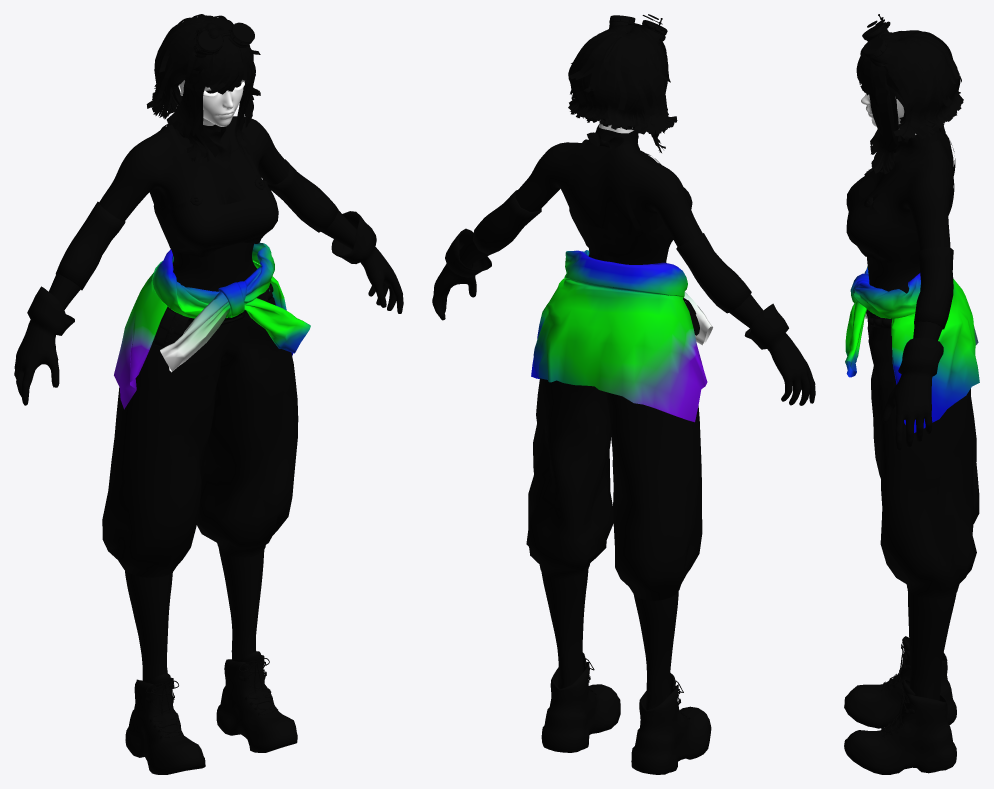
File: SK_MechanicGirl_01.obj
The picture shows the model from 3 angles, left to right: view 1: azimuth 30°, elevation 25°; view 2: azimuth 150°, elevation 25°; view 3: azimuth 270°, elevation 25°; orthographic projection. The views are drawn at different scales.
Visible parts, largest first — view 1: SK_MECHANICGIRL_PANTS, SK_MECHANICGIRL_BODY_CUT, SK_MECHANICGIRL_SHIRT, SK_MECHANICGIRL_SHOES, SK_MECHANICGIRL_HAIR_SHORT, SK_MECHANICGIRL_GLOVES, SK_MECHANICGIRL_TOP, SK_MECHANICGIRL_ELBOWS, SK_MECHANICGIRL_GLASSES_UP, SK_MECHANICGIRL_HEAD, SK_MECHANICGIRL_BELT, SK_MECHANICGIRL_SCARF; view 2: SK_MECHANICGIRL_PANTS, SK_MECHANICGIRL_SHIRT, SK_MECHANICGIRL_BODY_CUT, SK_MECHANICGIRL_SHOES, SK_MECHANICGIRL_HAIR_SHORT, SK_MECHANICGIRL_GLOVES, SK_MECHANICGIRL_ELBOWS, SK_MECHANICGIRL_TOP, SK_MECHANICGIRL_GLASSES_UP; view 3: SK_MECHANICGIRL_PANTS, SK_MECHANICGIRL_BODY_CUT, SK_MECHANICGIRL_SHOES, SK_MECHANICGIRL_HAIR_SHORT, SK_MECHANICGIRL_SHIRT, SK_MECHANICGIRL_GLOVES, SK_MECHANICGIRL_TOP, SK_MECHANICGIRL_ELBOWS, SK_MECHANICGIRL_GLASSES_UP, SK_MECHANICGIRL_SCARF, SK_MECHANICGIRL_HEAD, SK_MECHANICGIRL_BELT.
Part boxes in pixels (<box>): SK_MECHANICGIRL_PANTS: <box>102,266,298,577</box>; SK_MECHANICGIRL_BODY_CUT: <box>48,116,356,683</box>; SK_MECHANICGIRL_SHIRT: <box>114,242,310,409</box>; SK_MECHANICGIRL_SHOES: <box>125,651,297,774</box>; SK_MECHANICGIRL_HAIR_SHORT: <box>146,14,260,164</box>; SK_MECHANICGIRL_GLOVES: <box>14,211,403,405</box>; SK_MECHANICGIRL_TOP: <box>153,122,278,257</box>; SK_MECHANICGIRL_ELBOWS: <box>55,159,338,290</box>; SK_MECHANICGIRL_GLASSES_UP: <box>191,22,254,57</box>; SK_MECHANICGIRL_HEAD: <box>178,80,243,126</box>; SK_MECHANICGIRL_BELT: <box>154,283,273,347</box>; SK_MECHANICGIRL_SCARF: <box>203,126,231,169</box>; SK_MECHANICGIRL_PANTS: <box>526,295,702,600</box>; SK_MECHANICGIRL_SHIRT: <box>531,250,712,422</box>; SK_MECHANICGIRL_BODY_CUT: <box>459,127,763,710</box>; SK_MECHANICGIRL_SHOES: <box>541,652,711,774</box>; SK_MECHANICGIRL_HAIR_SHORT: <box>568,24,677,152</box>; SK_MECHANICGIRL_GLOVES: <box>432,228,815,405</box>; SK_MECHANICGIRL_ELBOWS: <box>472,190,751,313</box>; SK_MECHANICGIRL_TOP: <box>568,139,692,260</box>; SK_MECHANICGIRL_GLASSES_UP: <box>609,14,667,49</box>; SK_MECHANICGIRL_PANTS: <box>867,324,979,598</box>; SK_MECHANICGIRL_BODY_CUT: <box>859,129,956,700</box>; SK_MECHANICGIRL_SHOES: <box>844,636,956,774</box>; SK_MECHANICGIRL_HAIR_SHORT: <box>856,30,963,174</box>; SK_MECHANICGIRL_SHIRT: <box>845,266,979,432</box>; SK_MECHANICGIRL_GLOVES: <box>882,337,943,450</box>; SK_MECHANICGIRL_TOP: <box>846,134,955,265</box>; SK_MECHANICGIRL_ELBOWS: <box>914,246,953,329</box>; SK_MECHANICGIRL_GLASSES_UP: <box>862,14,892,73</box>; SK_MECHANICGIRL_SCARF: <box>880,125,945,172</box>; SK_MECHANICGIRL_HEAD: <box>861,93,916,134</box>; SK_MECHANICGIRL_BELT: <box>866,309,892,328</box>.
Bounding box in the file's own units: 98.33 × 182 × 31.14.
